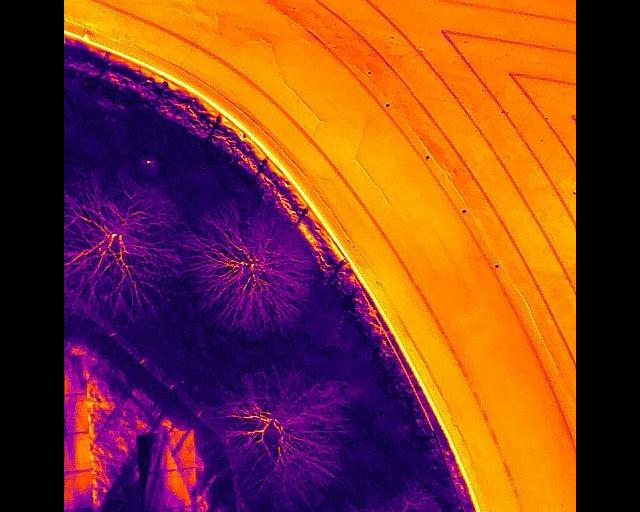Shadowing: (140, 470, 162, 510), (156, 431, 178, 468), (160, 468, 178, 509), (70, 392, 88, 432), (177, 429, 195, 468), (74, 469, 92, 508), (138, 434, 156, 471), (73, 433, 91, 470), (179, 469, 196, 508)
